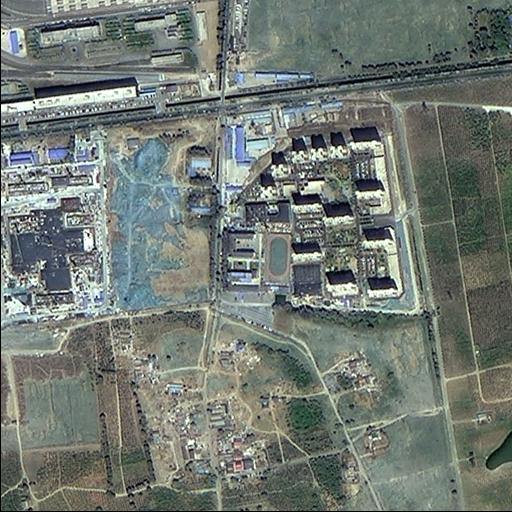school: (217, 223, 292, 295)
